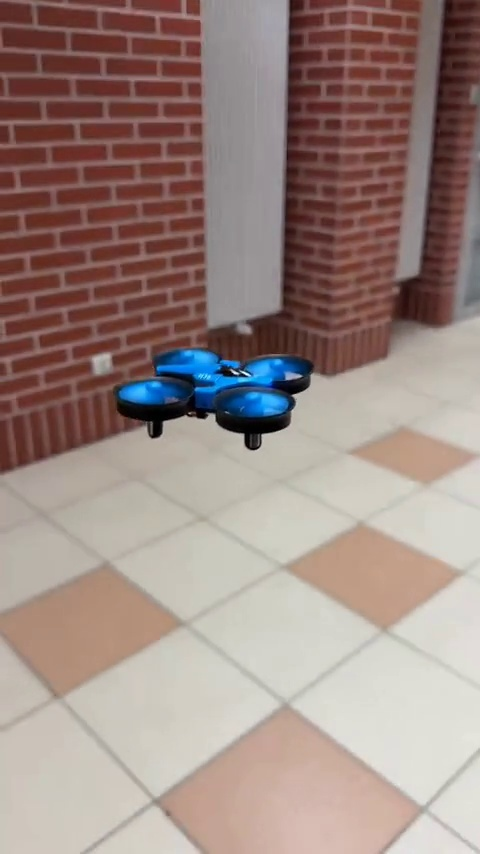drone: (110, 346, 316, 449)
